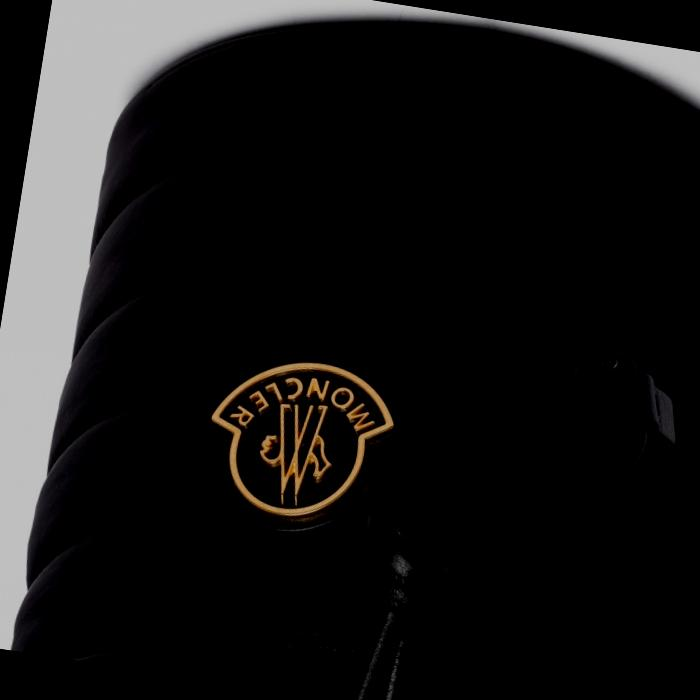MONCLER: (178, 333, 426, 554)
